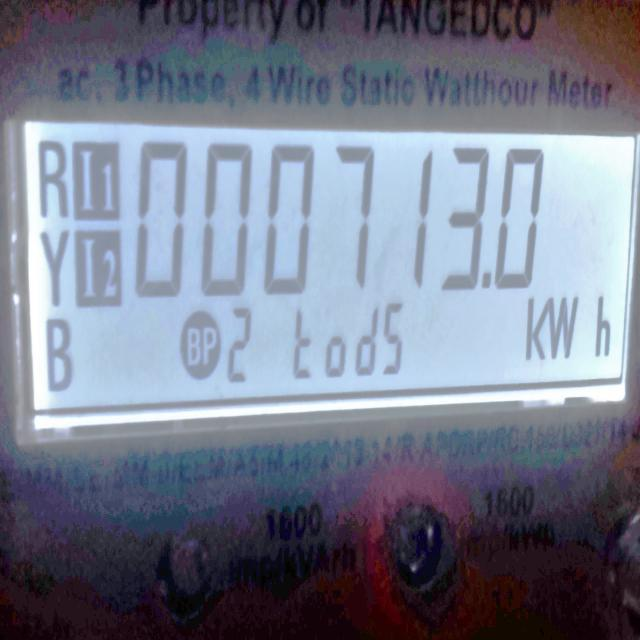LCD: (6, 105, 638, 425)
